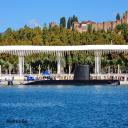submarine: (21, 62, 122, 86)
